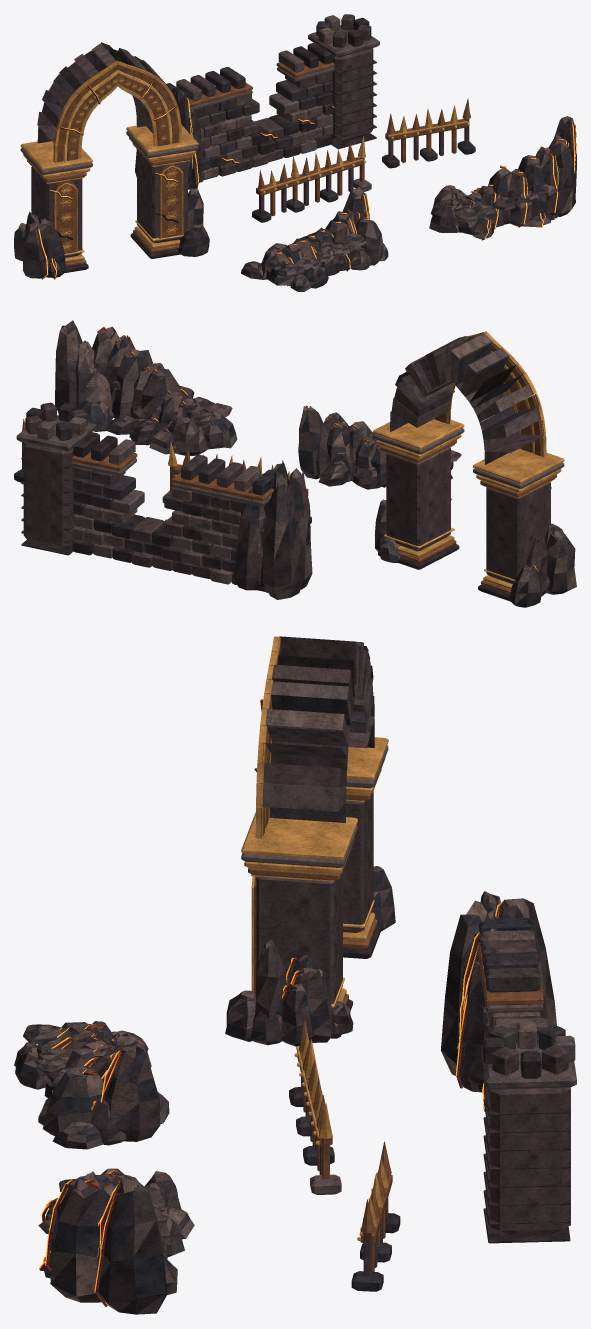
Rendered from lanka-volcanic-emissive.glb.
The picture shows the model from 3 angles, top to bottom: view 1: azimuth 30°, elevation 25°; view 2: azimuth 150°, elevation 25°; view 3: azimuth 270°, elevation 25°; orthographic projection. The views are drawn at different scales.
Parts seen in each view (by area): view 1: 01 Carved Ashgate, 02 Breached Fortress, 06 Basalt Fang, 05 Emberflow Ledge, 03 Bronze Palisade, 04 Iron Palisade; view 2: 02 Breached Fortress, 01 Carved Ashgate, 06 Basalt Fang, 05 Emberflow Ledge, 03 Bronze Palisade; view 3: 01 Carved Ashgate, 02 Breached Fortress, 06 Basalt Fang, 05 Emberflow Ledge, 03 Bronze Palisade, 04 Iron Palisade.
Boxes of the visible parts, x1,y1,x2,y2 form: 01 Carved Ashgate: (14, 42, 209, 279); 02 Breached Fortress: (135, 14, 379, 189); 06 Basalt Fang: (429, 116, 576, 240); 05 Emberflow Ledge: (241, 187, 388, 291); 03 Bronze Palisade: (252, 136, 371, 222); 04 Iron Palisade: (382, 98, 475, 168); 02 Breached Fortress: (16, 402, 312, 599); 01 Carved Ashgate: (373, 331, 576, 607); 06 Basalt Fang: (55, 320, 237, 455); 05 Emberflow Ledge: (298, 405, 461, 489); 03 Bronze Palisade: (162, 441, 311, 523); 01 Carved Ashgate: (225, 636, 395, 1046); 02 Breached Fortress: (441, 891, 576, 1243); 06 Basalt Fang: (38, 1168, 194, 1314); 05 Emberflow Ledge: (14, 1021, 169, 1149); 03 Bronze Palisade: (289, 1017, 341, 1194); 04 Iron Palisade: (351, 1141, 400, 1291).
Bounding box in the file's own units: 15.57 × 6.03 × 8.95.
15 materials, 13 textured.
